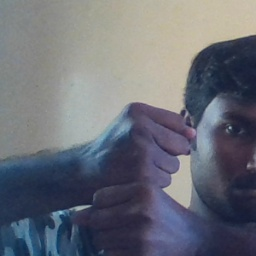G: (85, 97, 199, 256)
